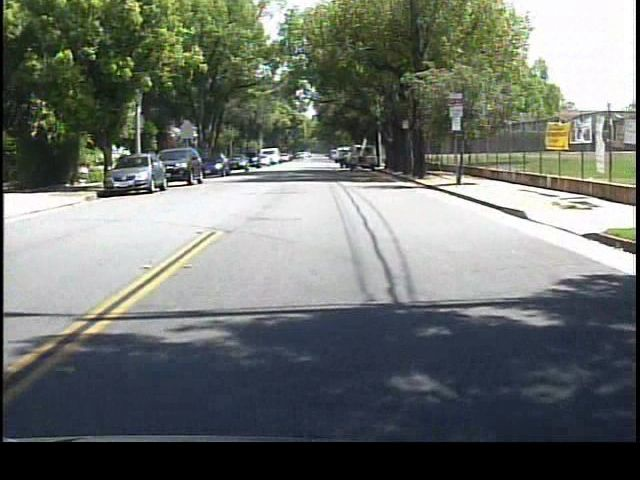person: (335, 147, 350, 172)
